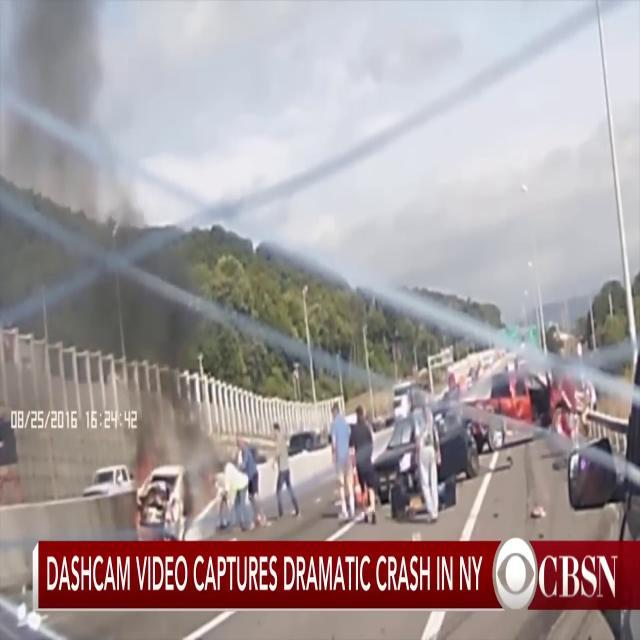Smoke: (0, 0, 144, 307)
